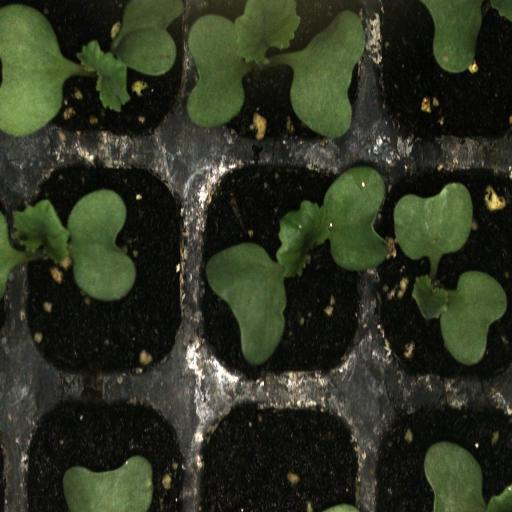Folha: (412, 271, 507, 366), (421, 0, 512, 74), (393, 182, 474, 265), (424, 441, 512, 512), (63, 455, 154, 512)
Germinacao: (10, 152, 192, 388), (194, 153, 370, 387), (372, 154, 512, 388), (11, 0, 194, 149), (194, 0, 368, 151)
